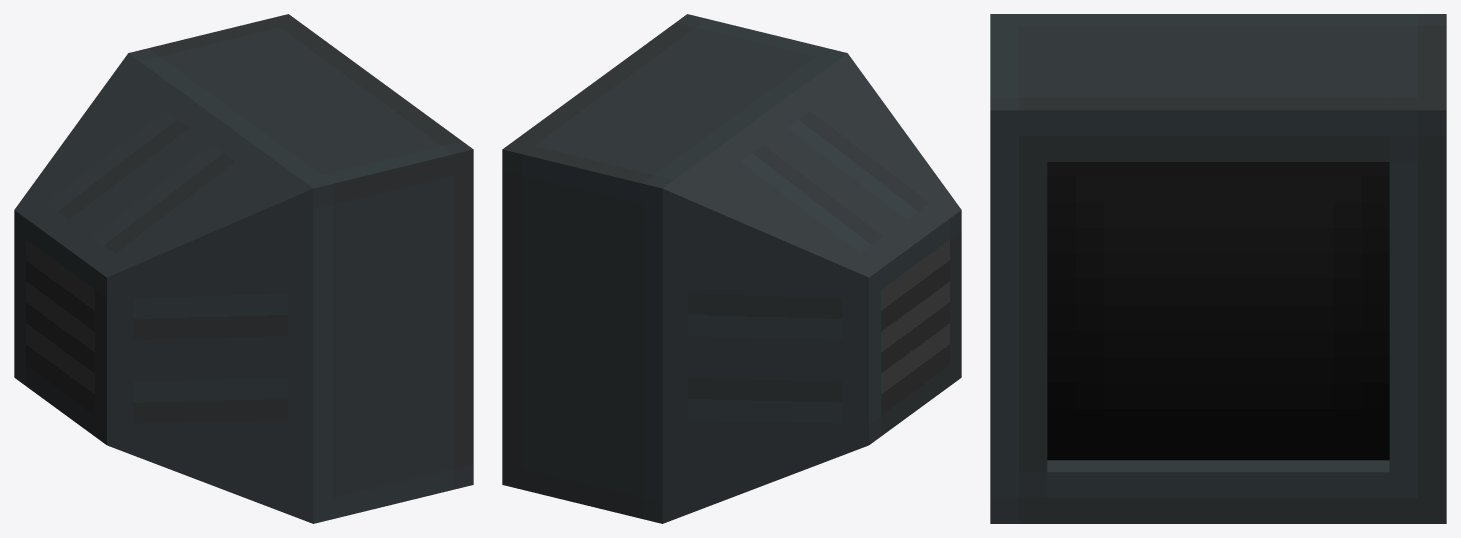
The model's file is crt_clean.obj.
The picture shows the model from 3 angles, left to right: view 1: azimuth 30°, elevation 25°; view 2: azimuth 150°, elevation 25°; view 3: azimuth 270°, elevation 25°; orthographic projection. The views are drawn at different scales.
Parts seen in each view (by area): view 1: Monitor; view 2: Monitor; view 3: Monitor, Screen.
Boxes of the visible parts, box(x1,y1,x2,y2) form: Monitor: box(14, 14, 473, 523); Monitor: box(502, 14, 961, 523); Monitor: box(990, 14, 1446, 523); Screen: box(1047, 162, 1389, 460).
Size of the model in its own units: 1 by 1 by 1.
